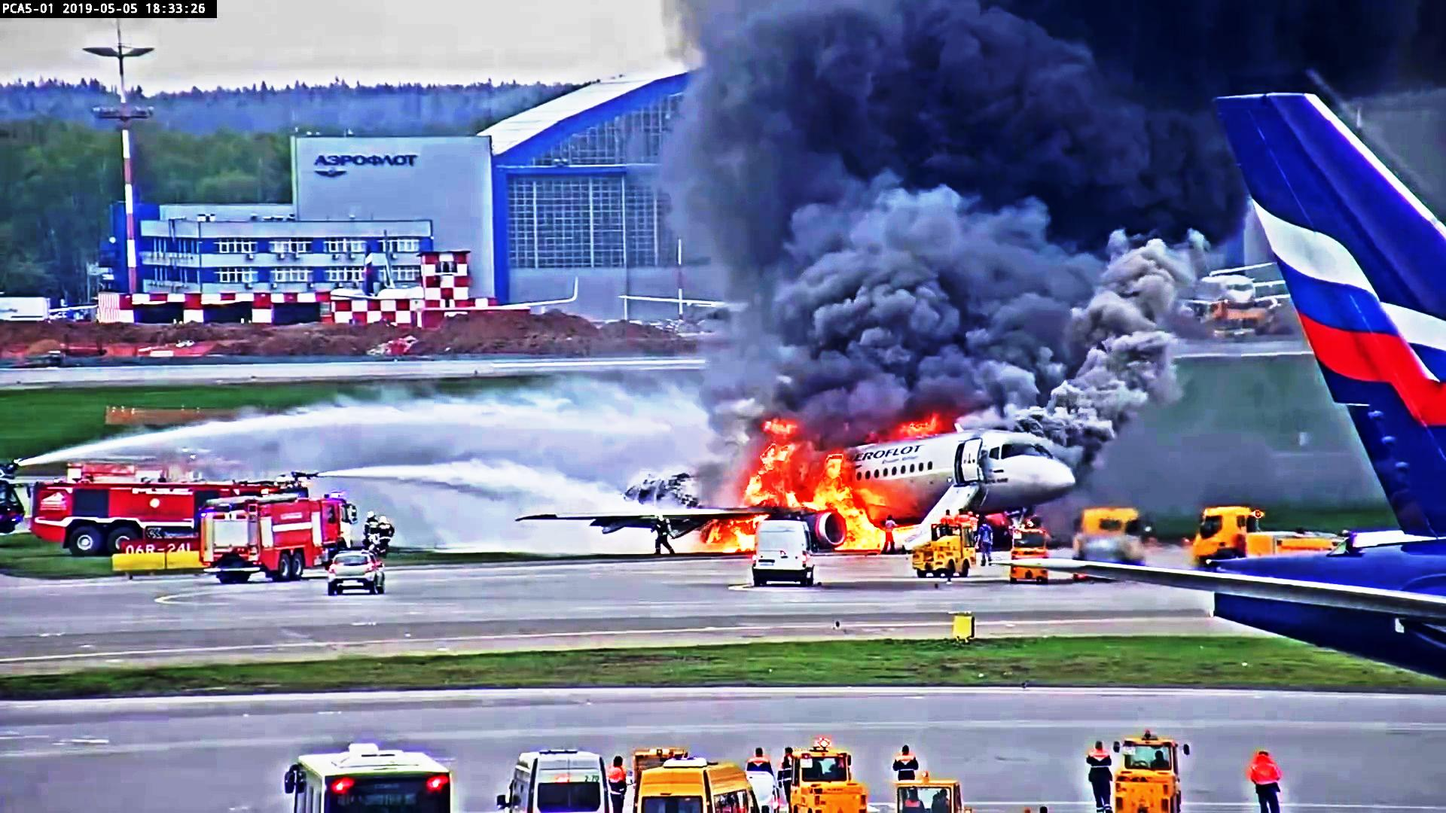fire: (731, 403, 853, 506)
smoke: (705, 6, 1204, 219), (757, 143, 1034, 429), (1040, 243, 1189, 454)
